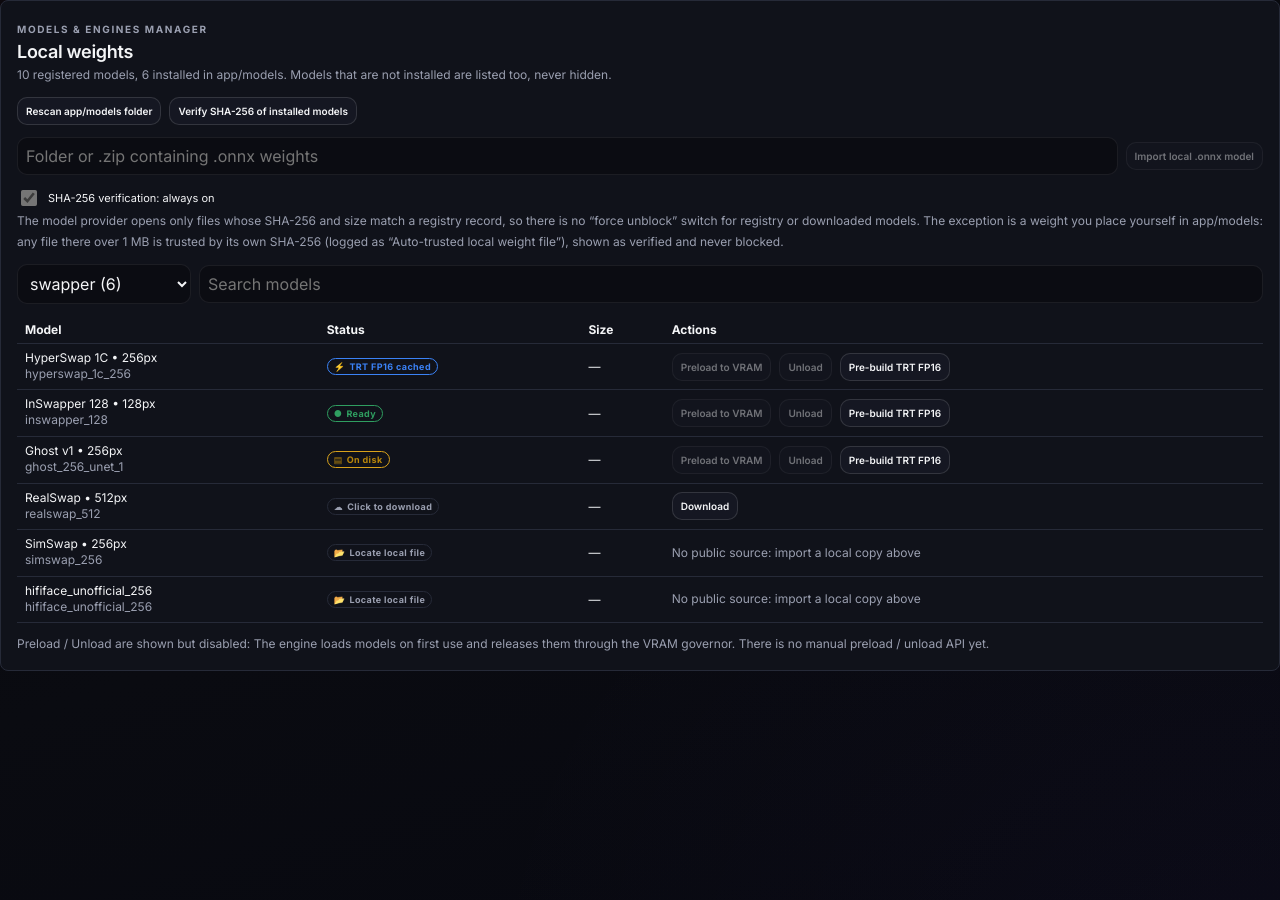
Scenario: Models & Engines Manager › lists every registered model, rescans, and states that SHA-256 verification cannot be skipped
The image size is (1280, 900).
Select "All categories (10)" in the dropdown named "Model category" at [104, 284], box [17,264,191,304]
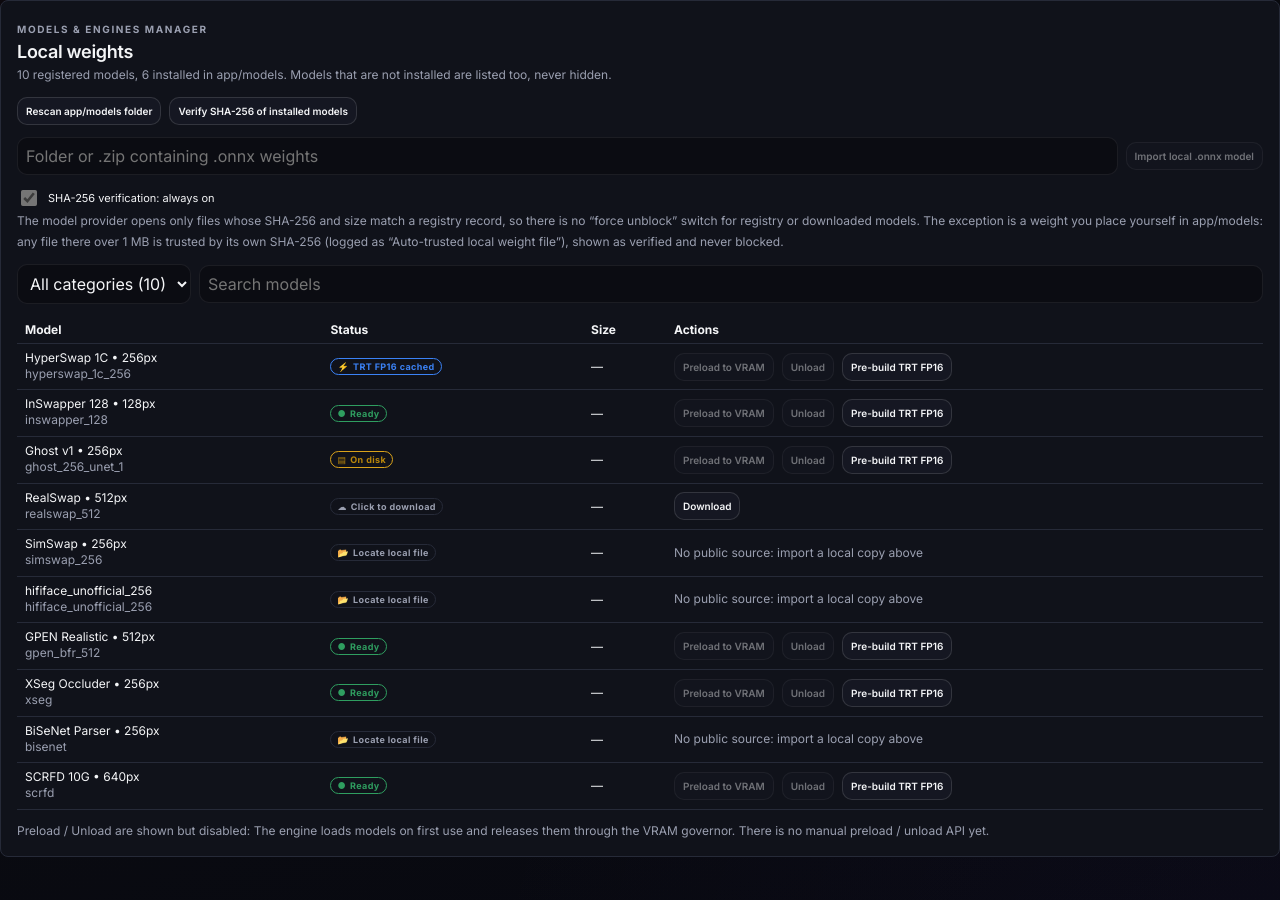
Expected: the checkbox named "SHA-256 verification" is checked, [21,190,37,206]
Expected: the checkbox named "SHA-256 verification" is disabled, [21,190,37,206]
Click the button "Rescan app/models folder" at [89, 111], box [17,97,162,125]
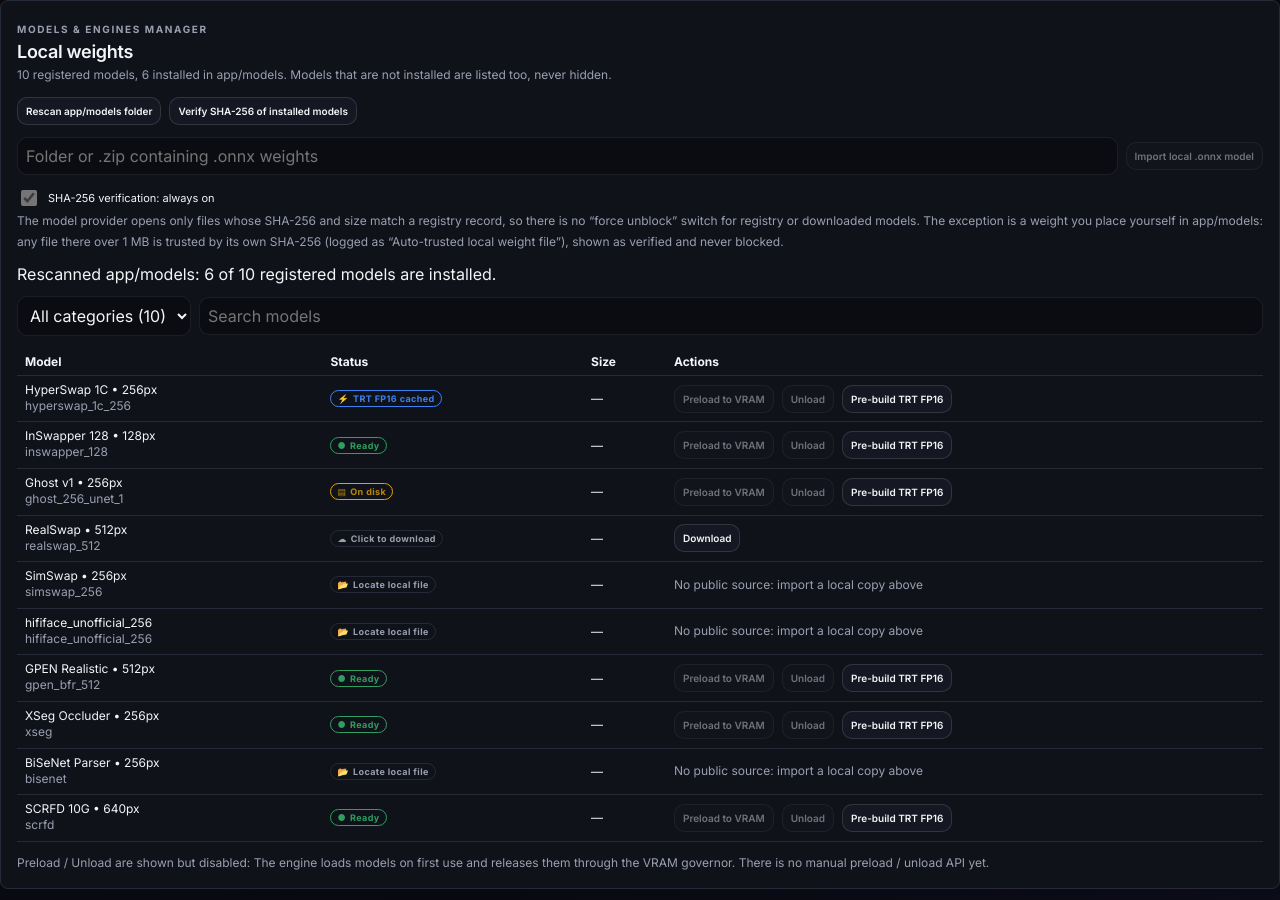
Result: the text "Rescanned app/models: 6 of 10 registered models are installed." is shown at [17,264,496,284]
